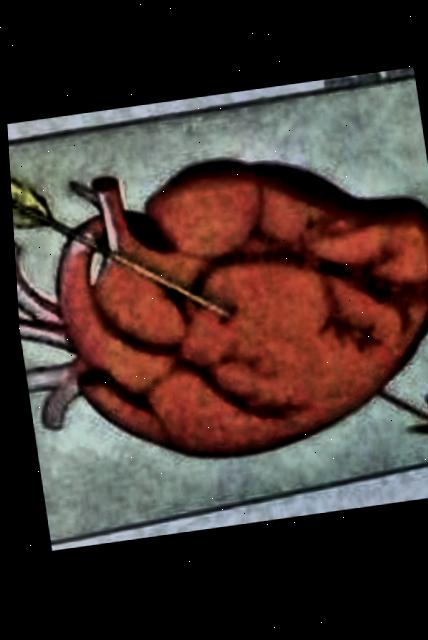El Corazon: (7, 81, 428, 540)
